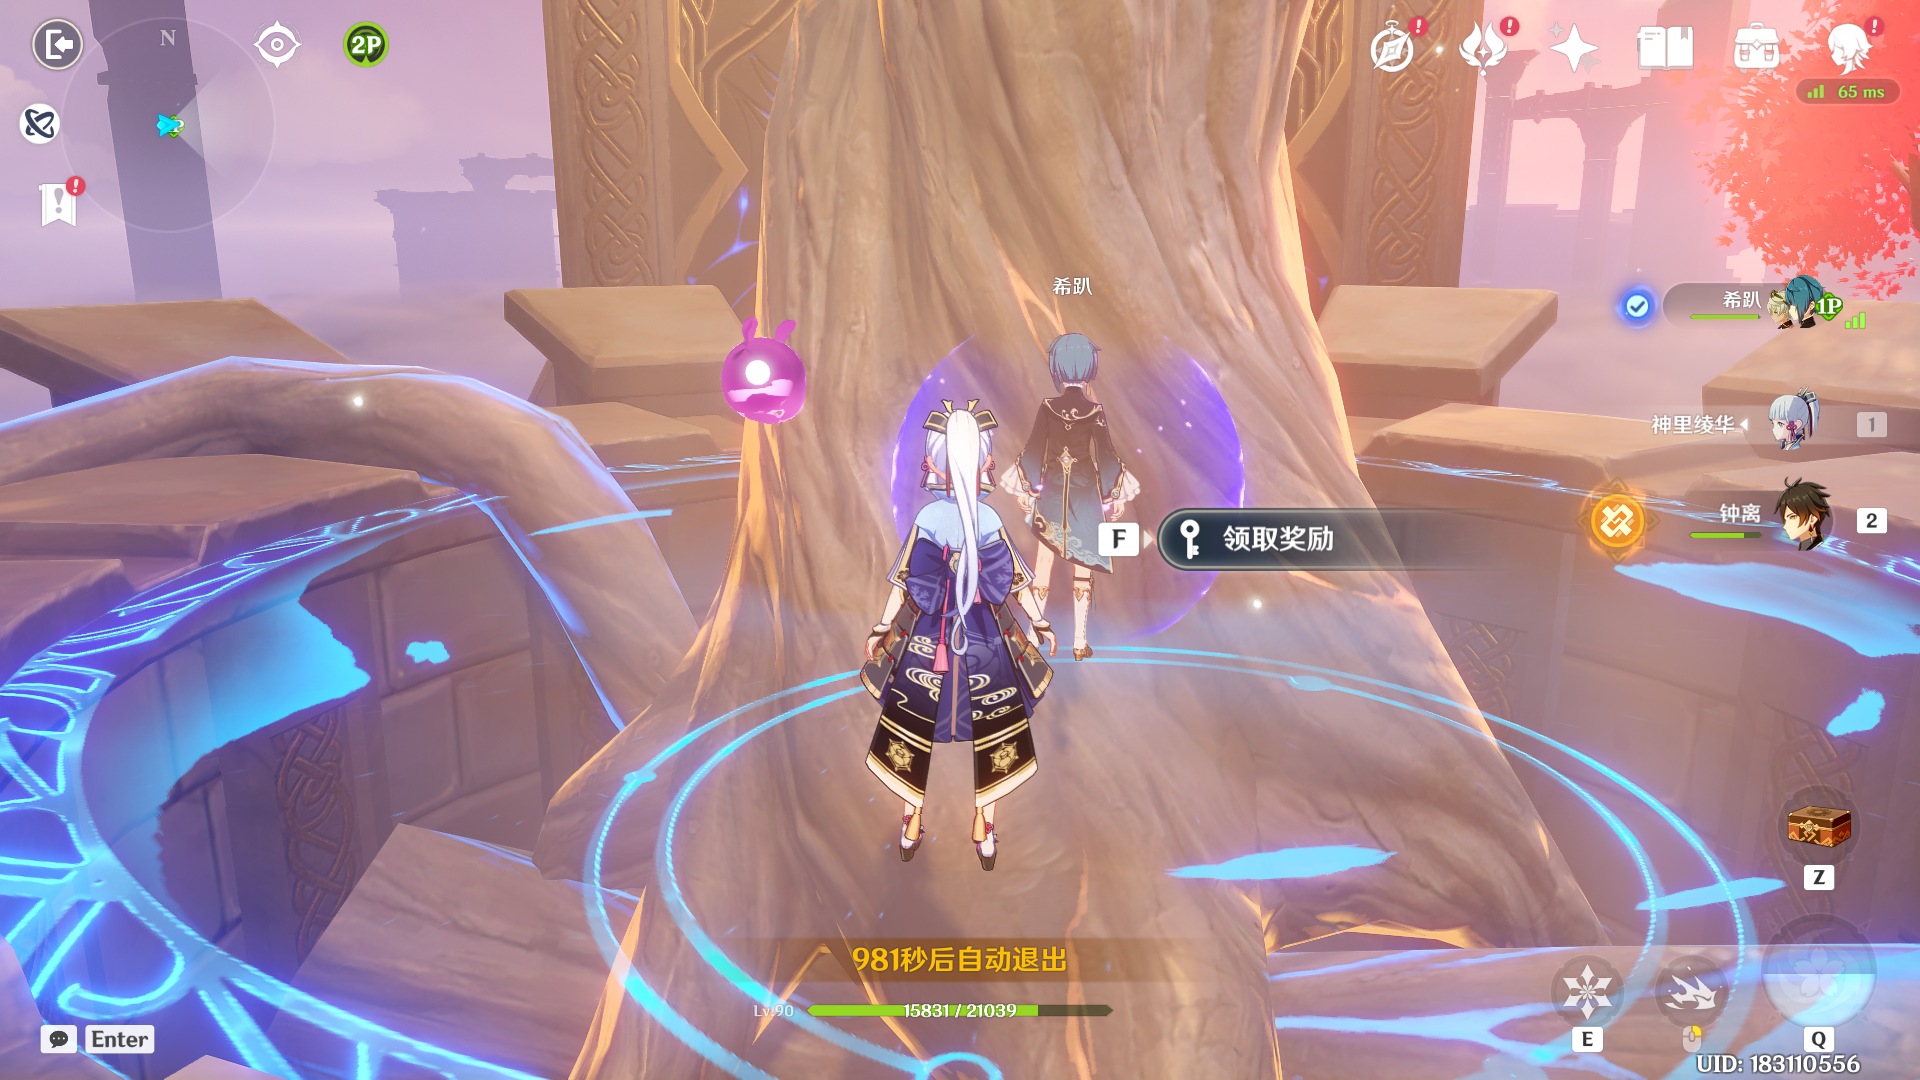character: (837, 400, 1097, 899), (971, 309, 1203, 670)
